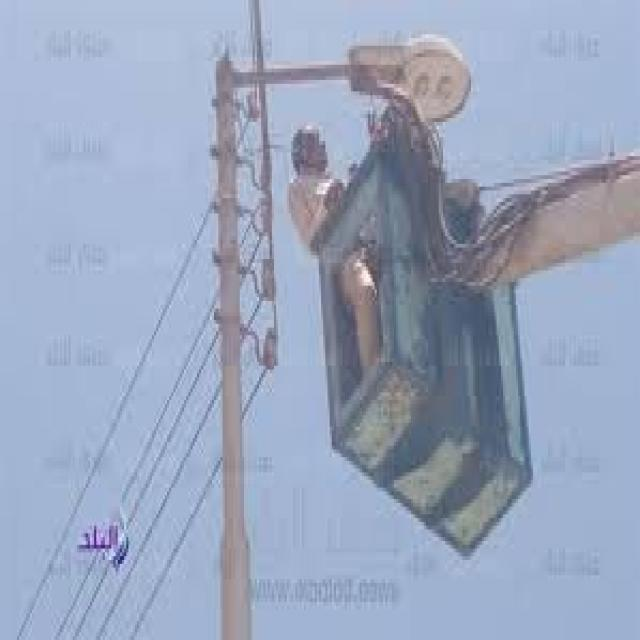Street Light: (212, 34, 469, 640)
